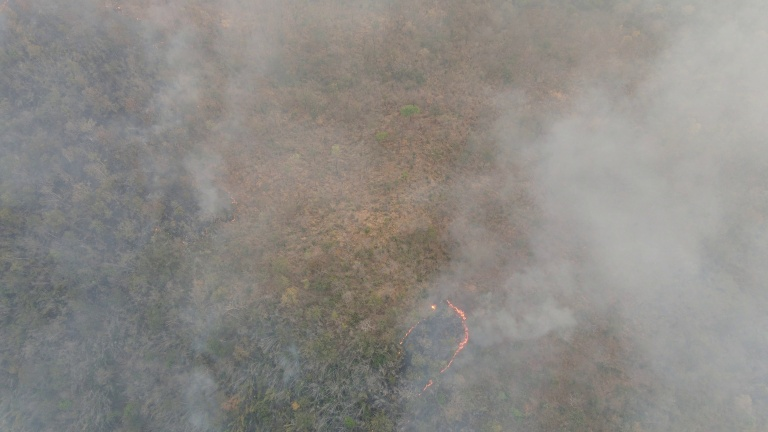fire: (388, 296, 473, 391)
smoke: (413, 2, 768, 432), (1, 1, 240, 430)
